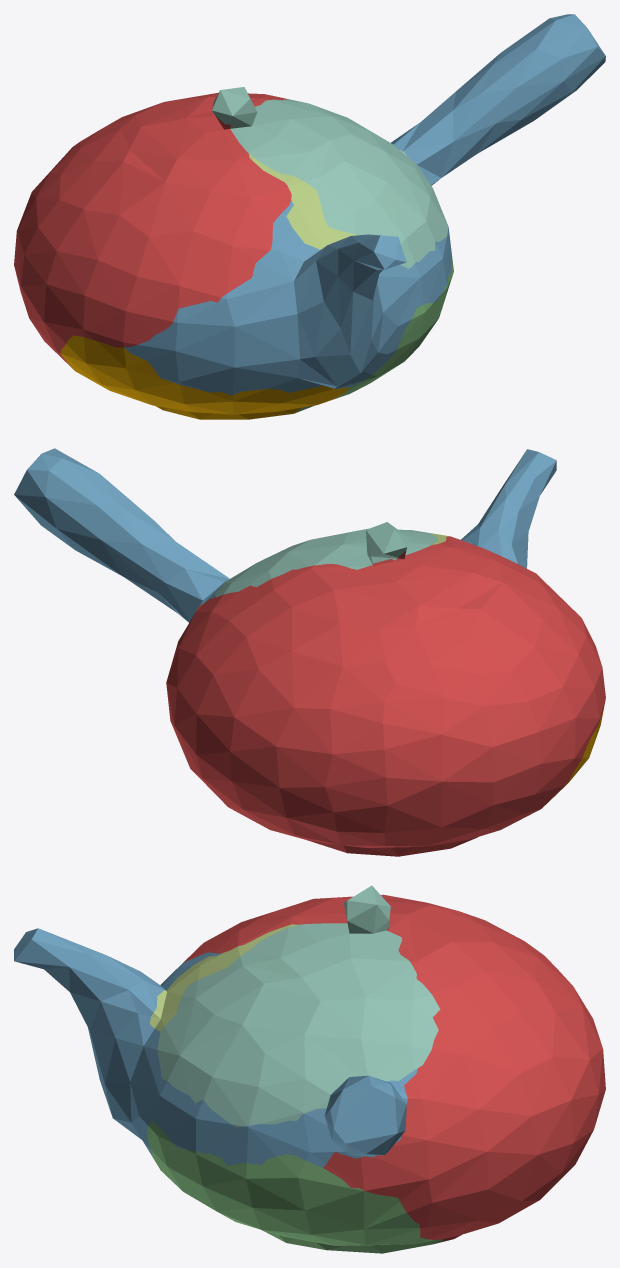
File: mode_10_6pcs.glb
3 views of the same model, one above another, from view 1: azimuth 30°, elevation 25°; view 2: azimuth 150°, elevation 25°; view 3: azimuth 270°, elevation 25° (orthographic). The views are drawn at different scales.
Parts seen in each view (by area): view 1: piece_1.obj, piece_2.obj, piece_4.obj, piece_0.obj, piece_5.obj, piece_3.obj; view 2: piece_1.obj, piece_2.obj, piece_4.obj; view 3: piece_1.obj, piece_4.obj, piece_2.obj, piece_3.obj, piece_5.obj.
Part boxes in pixels (box(x1,y1,x2,y2)): piece_1.obj: box(14, 92, 291, 369); piece_2.obj: box(124, 14, 605, 395); piece_4.obj: box(212, 87, 447, 268); piece_0.obj: box(60, 335, 348, 419); piece_5.obj: box(249, 154, 357, 249); piece_3.obj: box(297, 259, 453, 412); piece_1.obj: box(166, 536, 605, 856); piece_2.obj: box(14, 448, 595, 646); piece_4.obj: box(214, 522, 437, 597); piece_1.obj: box(183, 894, 605, 1241); piece_4.obj: box(157, 885, 440, 1127); piece_2.obj: box(14, 928, 417, 1167); piece_3.obj: box(147, 1121, 443, 1253); piece_5.obj: box(150, 924, 298, 1031).
Size of the model in its own units: 1 by 0.4926 by 0.8498.
